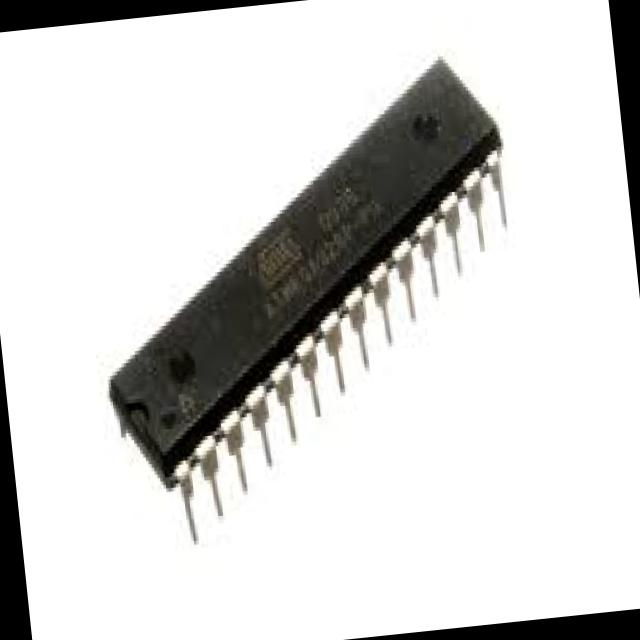atmega: (71, 39, 542, 544)
